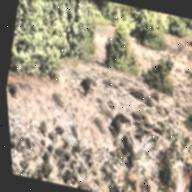boar: (73, 73, 95, 96)
